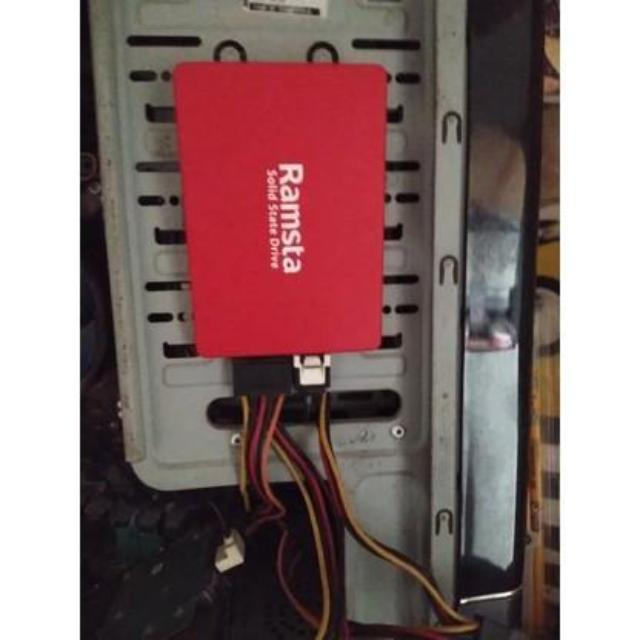DISK: (168, 58, 392, 366)
